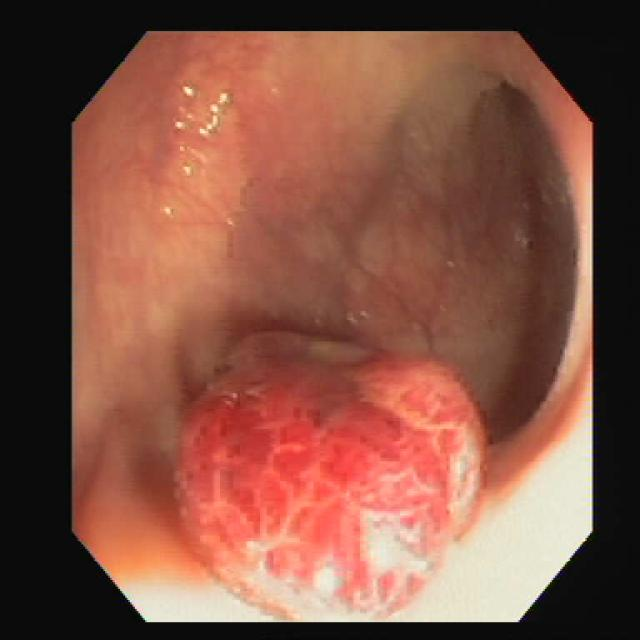tumor: (183, 333, 472, 607)
